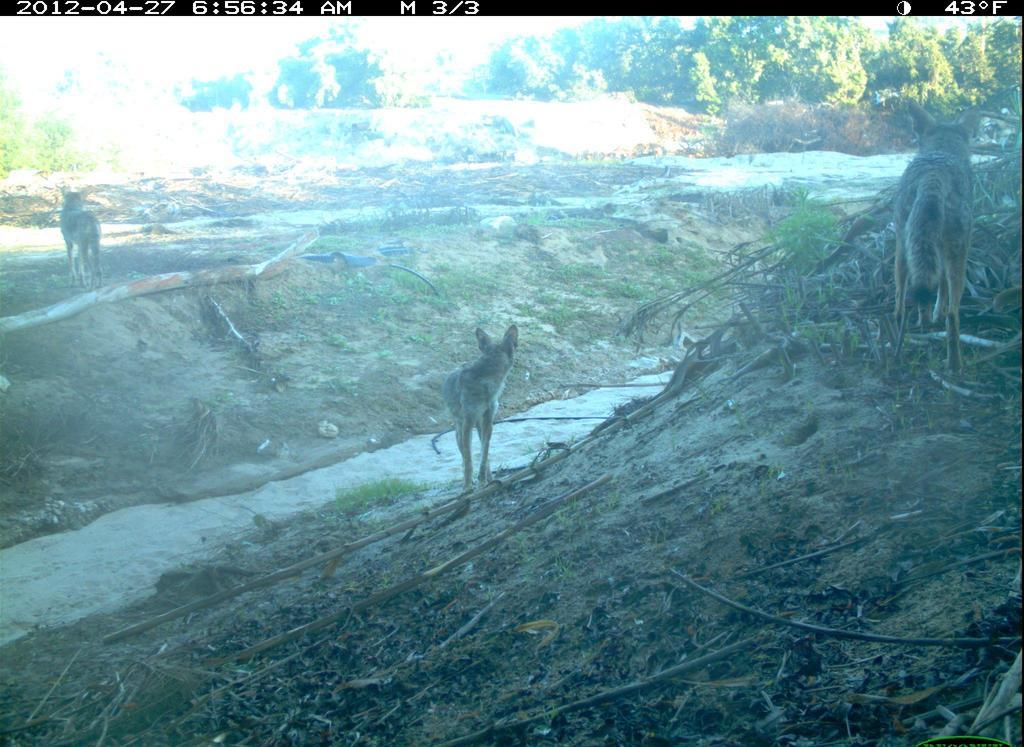coyote: (879, 90, 993, 387), (422, 313, 529, 502), (58, 184, 111, 292)
